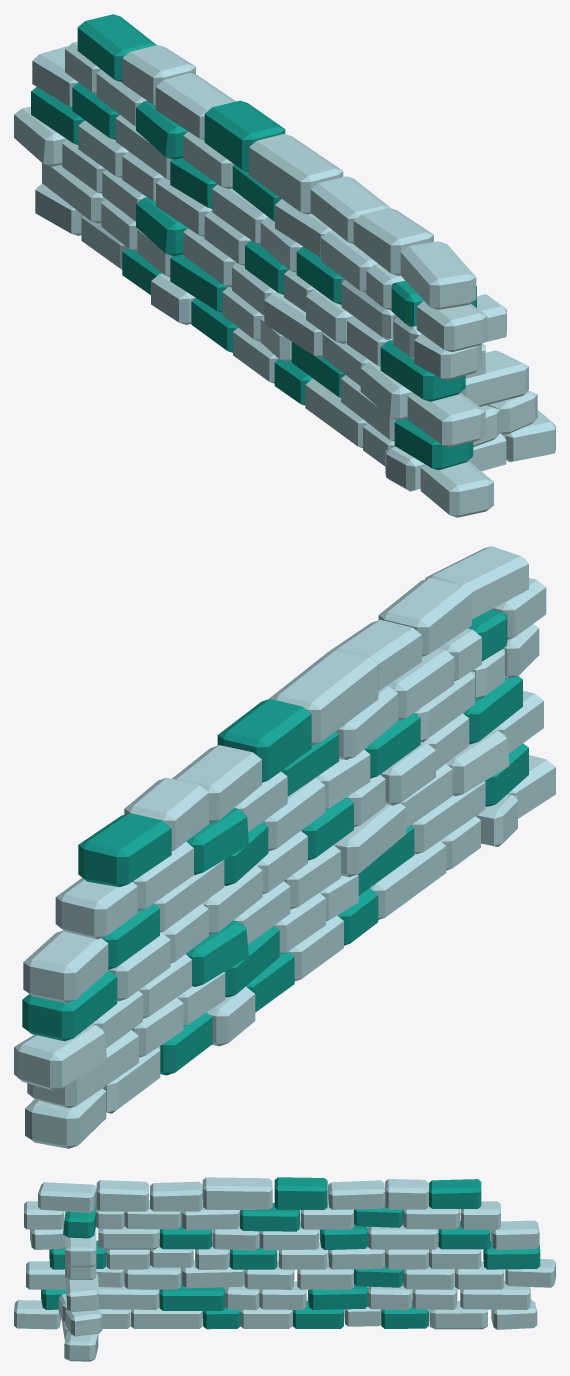
File: SM_Wall04.fbx
3 renders of one model, top to bottom at view 1: azimuth 30°, elevation 25°; view 2: azimuth 150°, elevation 25°; view 3: azimuth 270°, elevation 25°, orthographic. The views are drawn at different scales.
Parts seen in each view (by area): view 1: Wall04; view 2: Wall04; view 3: Wall04.
Part boxes in pixels (x1=…): Wall04: x1=14, y1=14, x2=555, y2=517; Wall04: x1=14, y1=546, x2=555, y2=1148; Wall04: x1=14, y1=1177, x2=555, y2=1361.
Size of the model in its own units: 221 by 305 by 1047.
